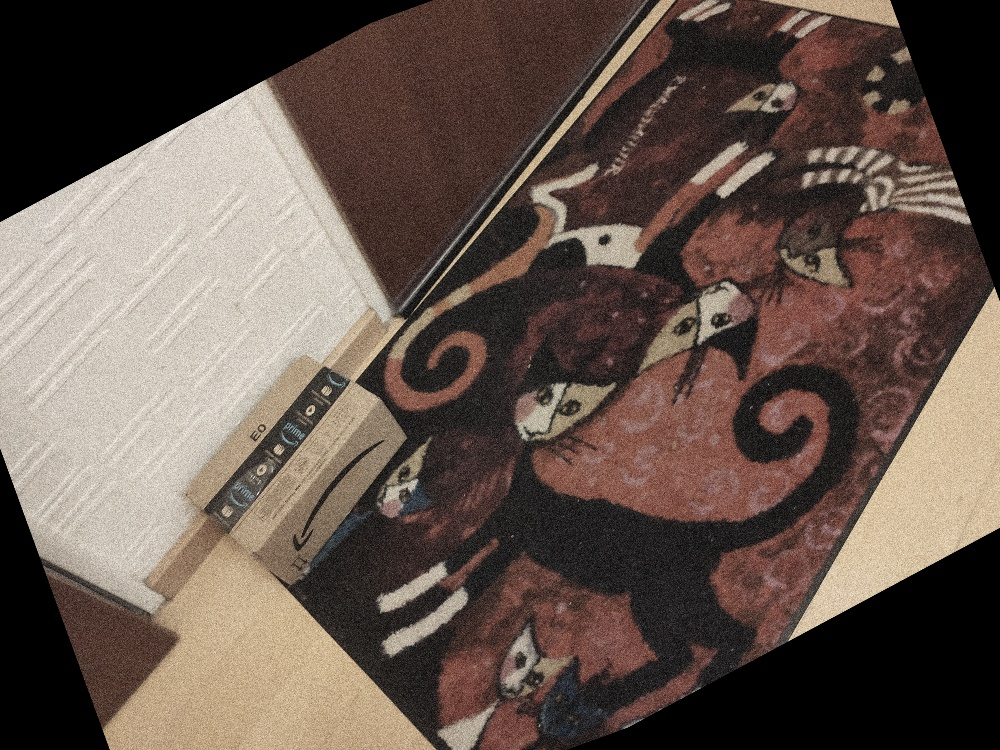good-parcel: (177, 352, 408, 597)
